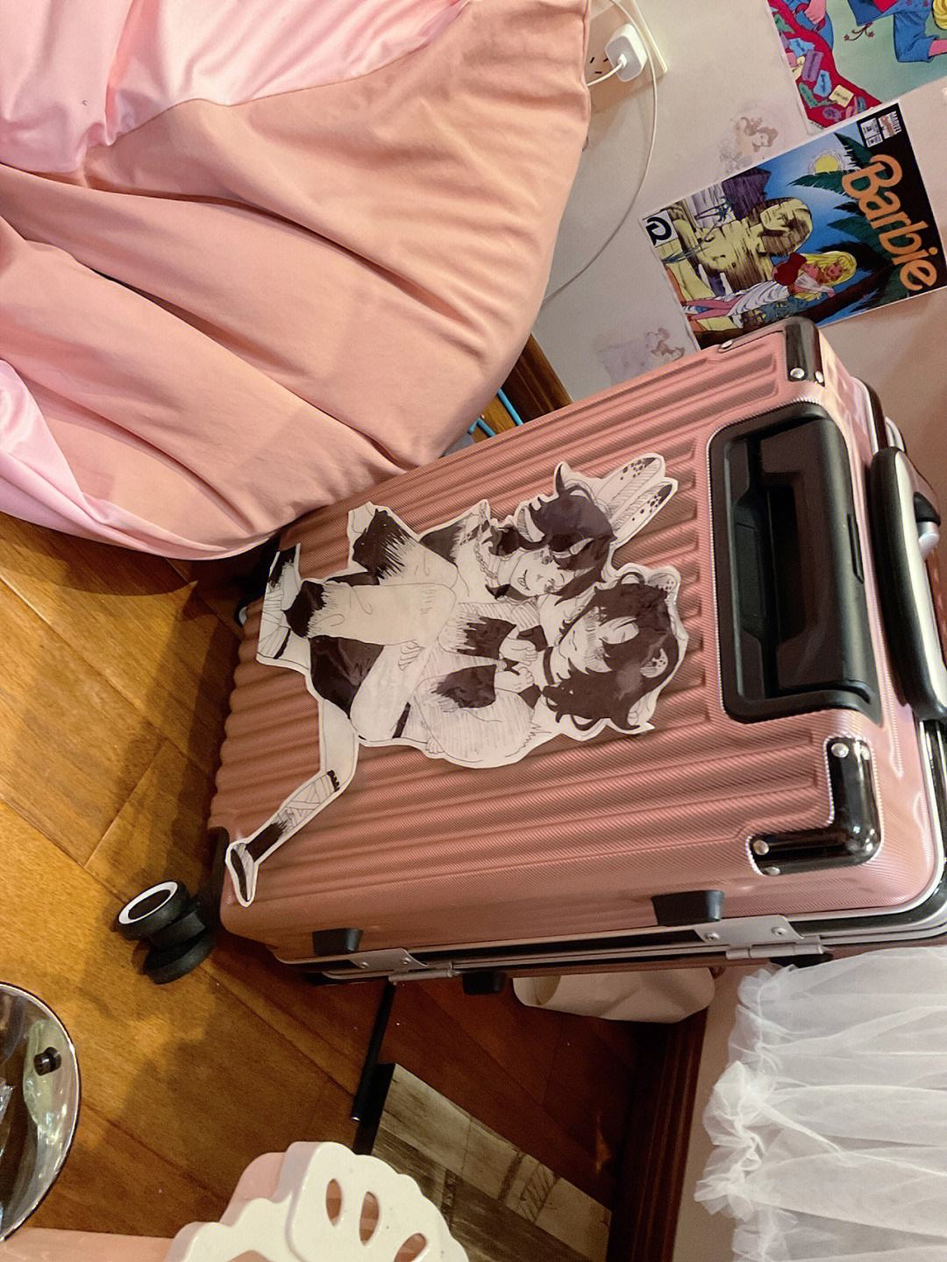box: (202, 315, 947, 985)
handle: (864, 446, 947, 739)
wheel: (115, 878, 217, 985)
